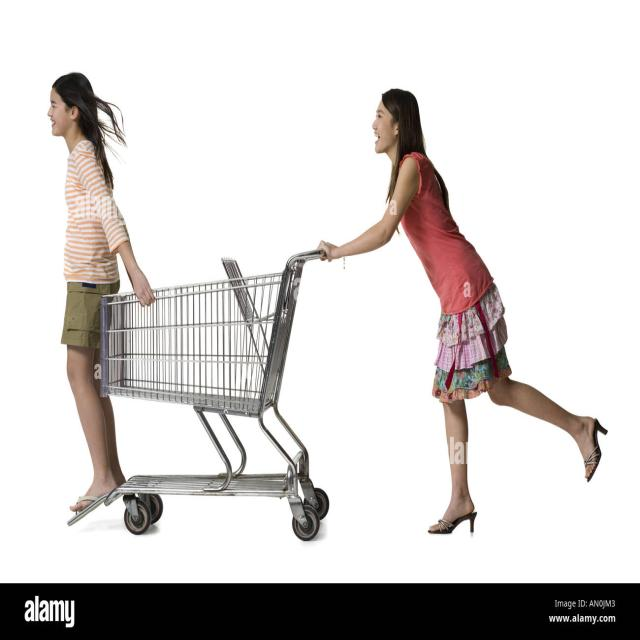Person: (319, 87, 608, 536), (47, 72, 151, 524)
